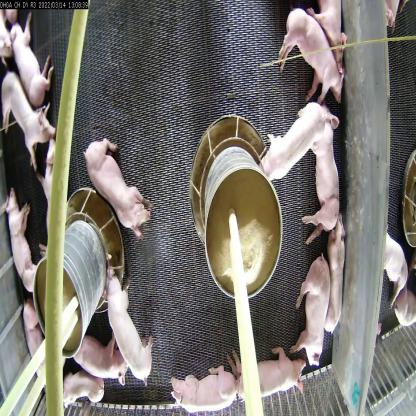Pig: (78, 126, 156, 240), (264, 0, 341, 112), (100, 271, 162, 382), (257, 105, 330, 185), (0, 73, 53, 173), (231, 339, 307, 407), (5, 13, 54, 116), (2, 187, 47, 299), (308, 112, 346, 244), (76, 319, 132, 395), (294, 255, 330, 367), (326, 213, 352, 340), (171, 371, 247, 411), (16, 304, 51, 388), (50, 372, 101, 415)
